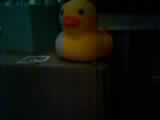duck: (50, 8, 111, 53)
